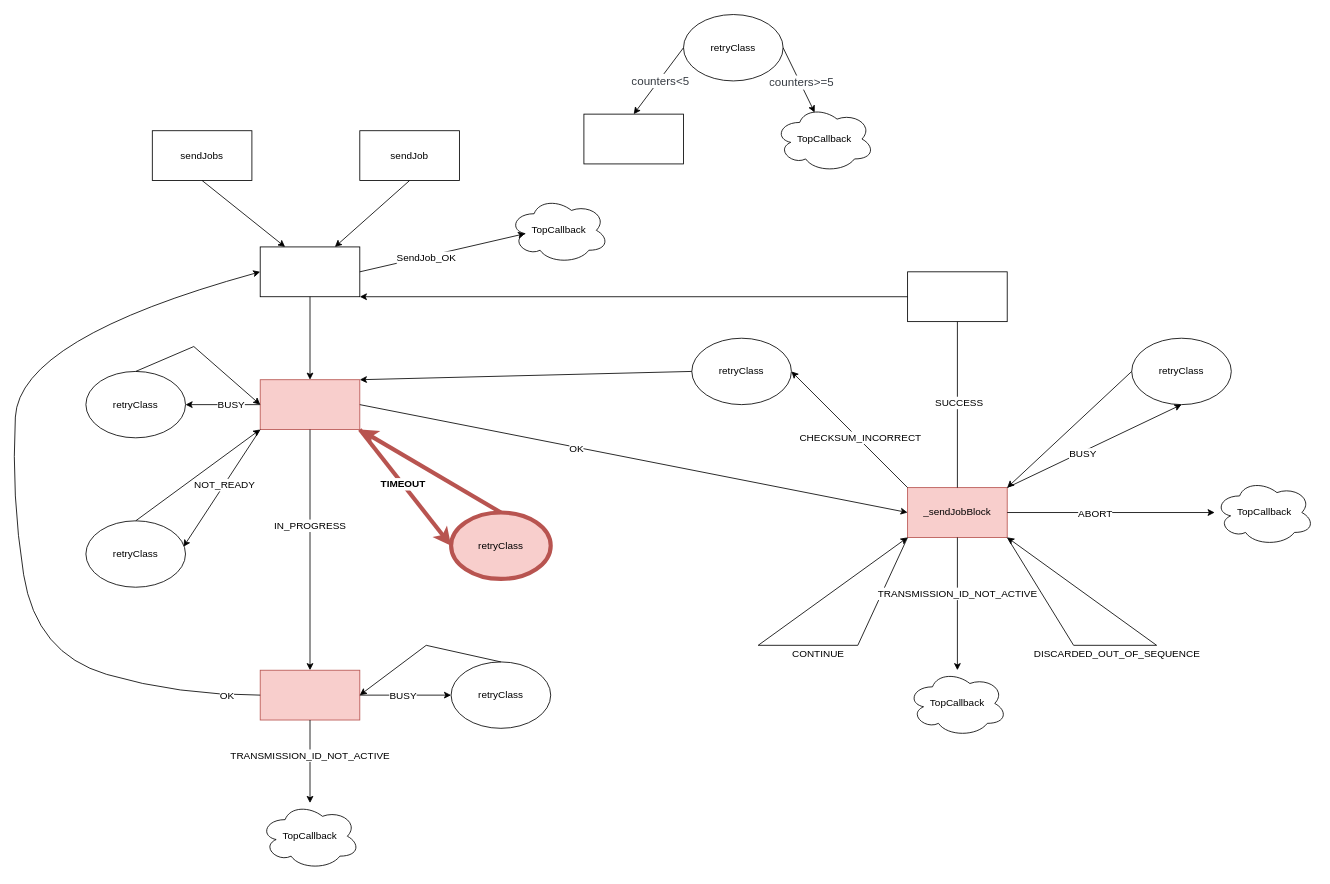
Some shapes in this 1330 by 884 pixel diagram are drawn without their labels. Each missing label, with the box of its shape:
_cancelSendJob: (259, 669, 360, 720)
_initSendJob: (259, 379, 360, 430)
_sendWasmFile: (259, 246, 360, 297)
function: (583, 113, 684, 164)
retryClass.clear(): (907, 271, 1007, 322)
